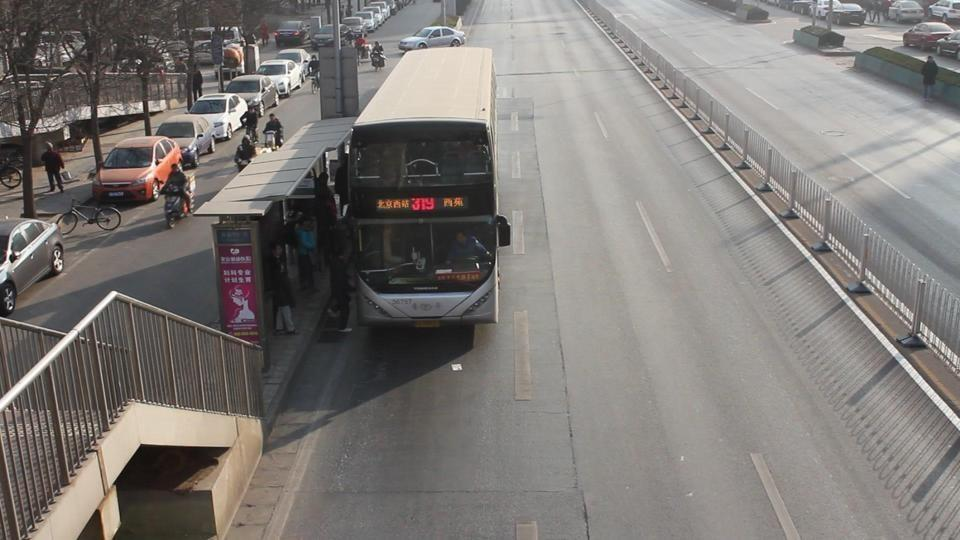car: (0, 214, 67, 315), (92, 136, 185, 205), (154, 114, 217, 167), (188, 94, 249, 141), (223, 74, 280, 114), (269, 50, 314, 89), (257, 60, 305, 95), (399, 26, 466, 49), (903, 21, 954, 50), (793, 26, 845, 51), (819, 2, 866, 27), (274, 20, 311, 47), (888, 0, 927, 24), (345, 10, 381, 32), (935, 30, 960, 57), (309, 24, 335, 49), (928, 0, 960, 20)
